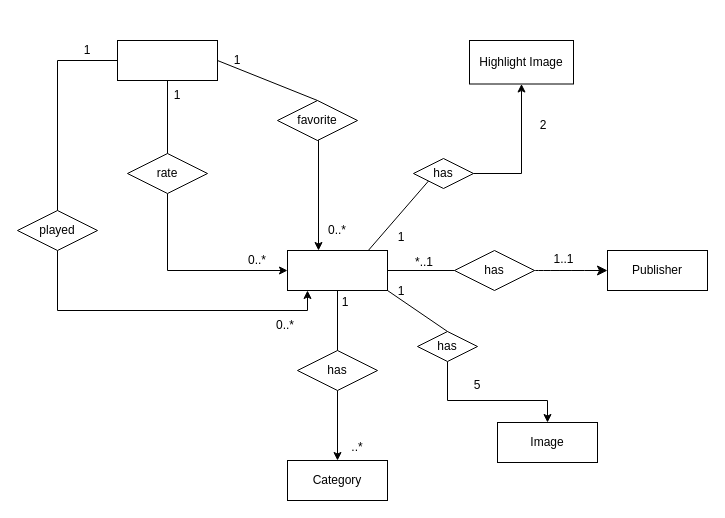
This 725x518 diagram has some shape labels left out. Each missing label, with the centre of its shape:
"Game" belongs at point (337, 270).
"Member" belongs at point (167, 60).
